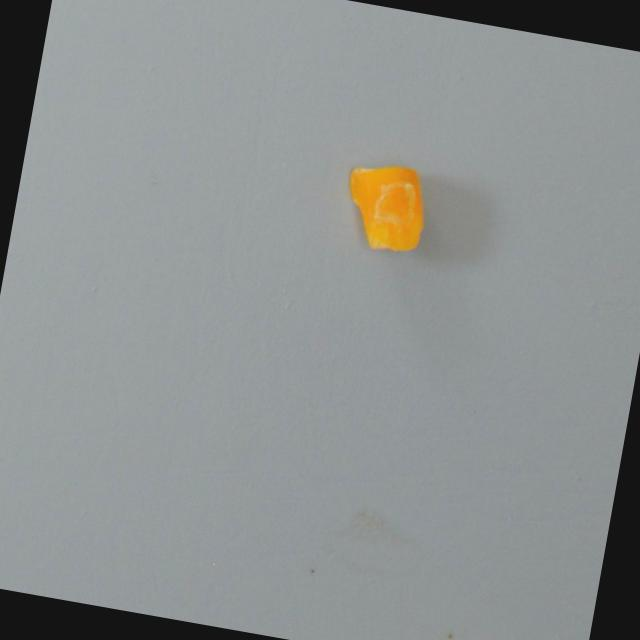pelicula: (340, 156, 437, 257)
